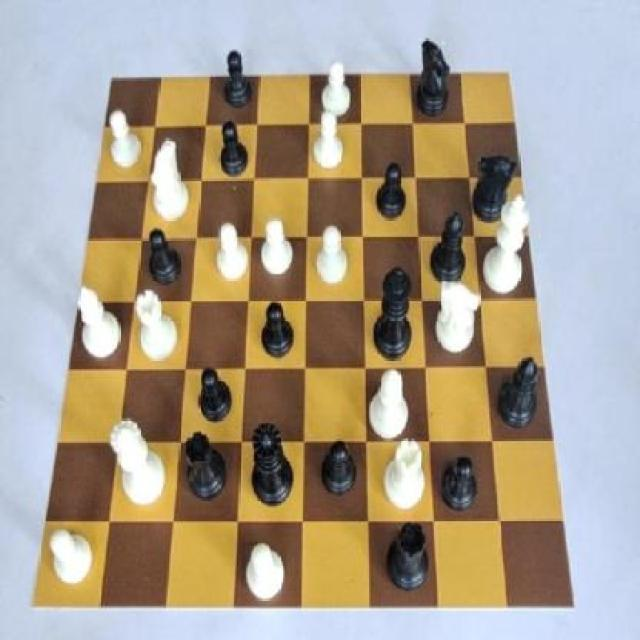bishop: (425, 208, 473, 297), (494, 357, 543, 437)
black-bishop: (365, 260, 419, 364)
black-king: (471, 148, 523, 237), (412, 30, 457, 124)
black-knight: (431, 444, 486, 524), (142, 220, 186, 295), (254, 298, 297, 372), (196, 358, 238, 431), (318, 429, 358, 503), (218, 46, 260, 115), (372, 159, 410, 223), (214, 114, 250, 180)
black-pawn: (243, 416, 300, 514)
black-queen: (181, 423, 237, 513), (380, 515, 435, 593)
black-rook: (361, 360, 414, 451), (73, 277, 128, 363)
white-bishop: (480, 181, 535, 297)
white-king: (144, 130, 192, 232), (431, 271, 482, 364)
white-knight: (40, 524, 105, 598), (206, 214, 252, 297), (240, 532, 291, 603), (304, 211, 350, 288), (101, 105, 147, 180), (302, 106, 348, 178), (258, 216, 300, 288), (314, 59, 358, 118)
white-pawn: (109, 416, 172, 514)
white-queen: (131, 280, 179, 366), (380, 438, 429, 518)
